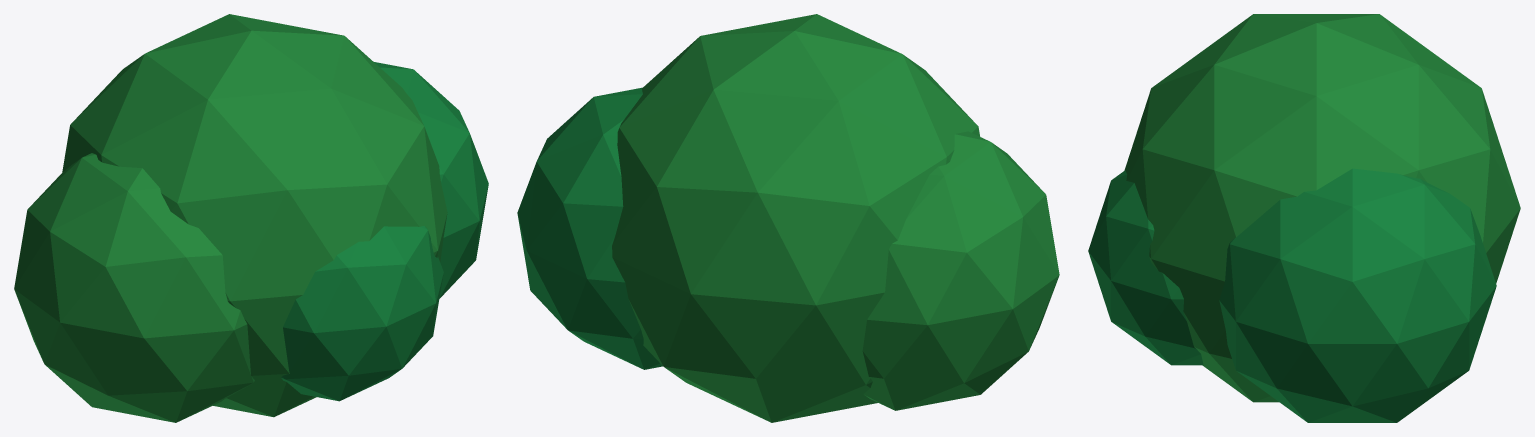
The model's file is bush.glb.
3 renders of one model, left to right at view 1: azimuth 30°, elevation 25°; view 2: azimuth 150°, elevation 25°; view 3: azimuth 270°, elevation 25°, orthographic.
Parts seen in each view (by area): view 1: Leaf0, Leaf2, Leaf3, Leaf1; view 2: Leaf0, Leaf2, Leaf1; view 3: Leaf0, Leaf1, Leaf3.
Boxes of the visible parts, x1,y1,x2,y2 form: Leaf0: (62,14,447,417); Leaf2: (14,153,254,422); Leaf3: (281,226,443,401); Leaf1: (374,62,488,298); Leaf0: (612,14,980,422); Leaf2: (862,131,1059,410); Leaf1: (517,87,662,369); Leaf0: (1124,14,1520,402); Leaf1: (1219,168,1496,422); Leaf3: (1088,170,1203,365).
Bounding box in the file's own units: 2.21 × 1.7 × 1.8.
